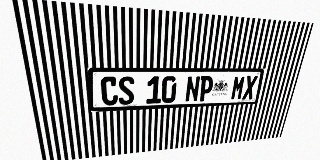0: (161, 76, 177, 103)
1: (146, 76, 162, 104)
C: (100, 76, 118, 106)
M: (230, 76, 246, 100)
N: (185, 76, 201, 102)
P: (198, 76, 214, 102)
S: (118, 76, 134, 105)
X: (242, 76, 258, 100)
